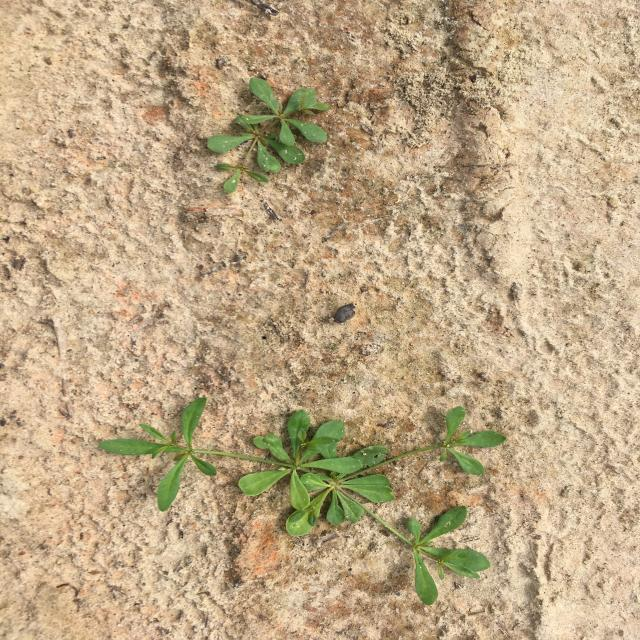Carpetweed: (98, 398, 507, 605), (207, 78, 331, 193)
